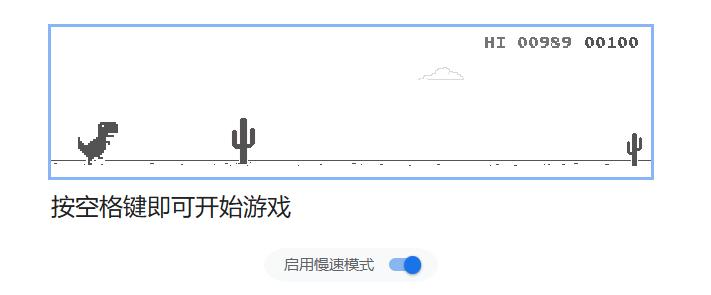cactus: (230, 117, 256, 166), (626, 132, 643, 167)
dino: (76, 120, 119, 165)
